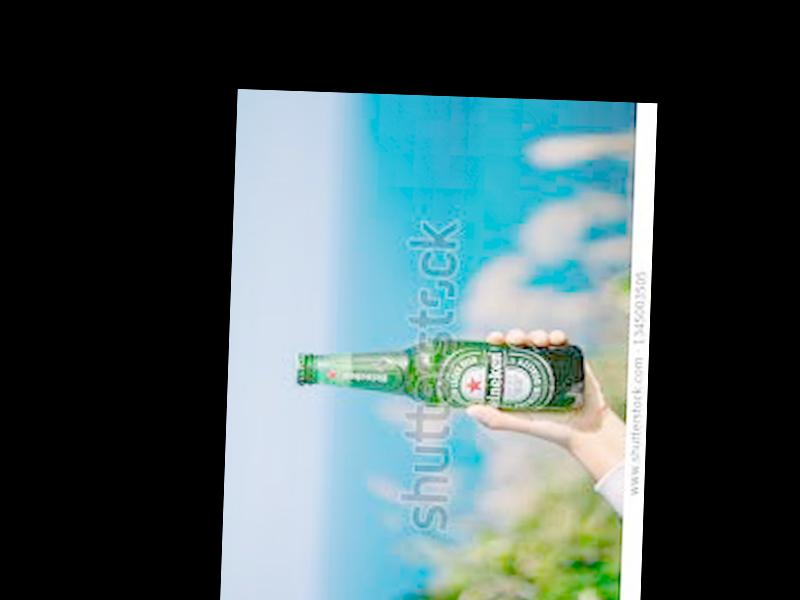Beer: (294, 335, 582, 416)
